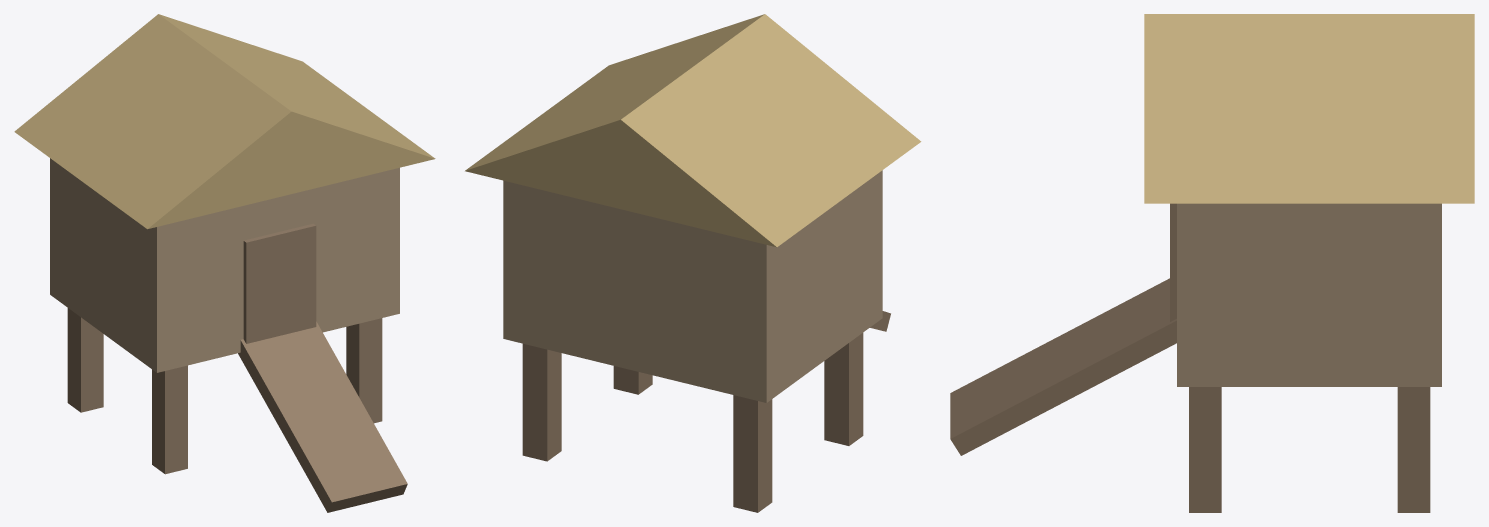
File: chicken-coop.glb
3 views of the same model, side by side, from view 1: azimuth 30°, elevation 25°; view 2: azimuth 150°, elevation 25°; view 3: azimuth 270°, elevation 25° (orthographic). The views are drawn at different scales.
Parts seen in each view (by area): view 1: chicken_coop; view 2: chicken_coop; view 3: chicken_coop.
Part boxes in pixels (left/top/right/bottom): chicken_coop: left=14, top=14, right=435, bottom=512; chicken_coop: left=465, top=14, right=921, bottom=512; chicken_coop: left=950, top=14, right=1474, bottom=512.
Size of the model in its own units: 0.3167 by 0.3667 by 0.4022.
